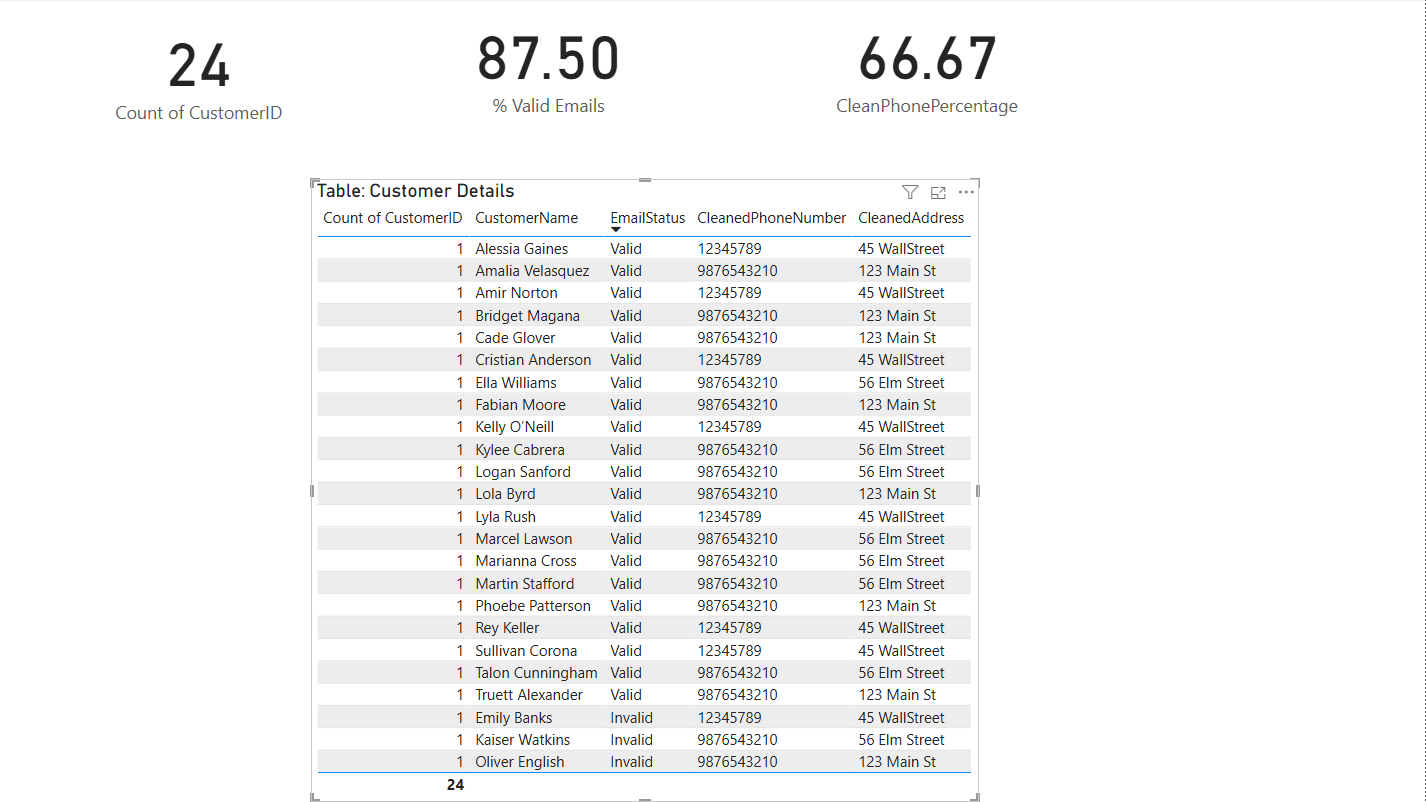

Layout of this report page (visuals, bound fields, positions):
{"tool":"powerbi","page":{"name":"Page 1","canvas":[1280,720],"ordinal":0},"visuals":[{"type":"card","fields":{"Values":["CustomerData.ValidEmailPercentage"]},"box":[327.8,0,335.8,114.6],"z":0},{"type":"card","fields":{"Values":["CustomerData.CustomerID"]},"box":[0,8.1,365.4,111],"z":1},{"type":"card","fields":{"Values":["CustomerData.% Clean Phone Numbers"]},"box":[618.8,0,431.6,114.6],"z":2},{"type":"tableEx","title":"Table: Customer Details","fields":{"Values":["CustomerData.CustomerID","CustomerData.CustomerName","CustomerData.EmailStatus","CustomerData.CleanedPhoneNumber ","CustomerData.CleanedAddress "]},"box":[283,162.1,598.2,557.9],"z":3}]}

Visuals, with their boxes in screenshot pixels (x1, y1, x2, y2), scaled from the page's 1280x720 canvas onto the 1426x802 screenshot:
card - CustomerData.ValidEmailPercentage: (left=365, top=0, right=739, bottom=128)
card - CustomerData.CustomerID: (left=0, top=9, right=407, bottom=133)
card - CustomerData.% Clean Phone Numbers: (left=689, top=0, right=1170, bottom=128)
"Table: Customer Details" tableEx: (left=315, top=181, right=982, bottom=801)
